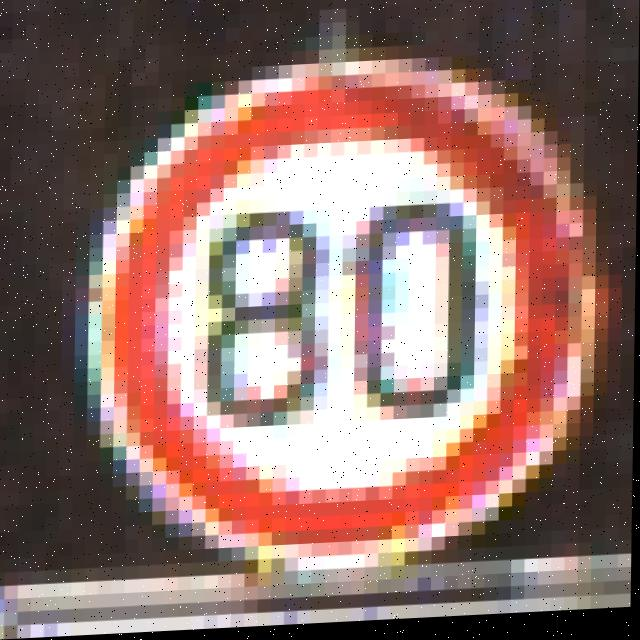speed_limit_80: (75, 36, 602, 583)
